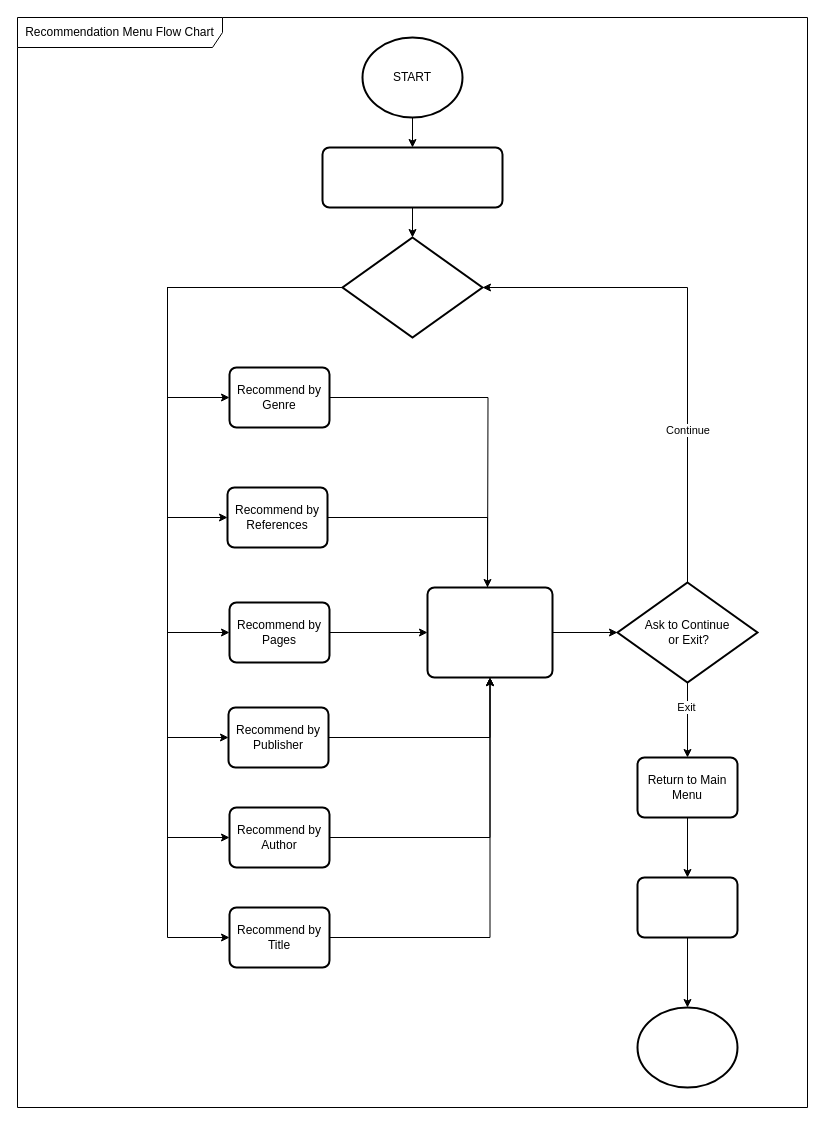
The diagram is 825 pixels wide and 1125 high, and some of its shapes have lost their labels. The centre of each missing label's shape, as x and y in pixels:
Display Main Menu: [687,907]
Display Result: [489,632]
END: [687,1047]
Login to Book Recommendation Menu: [412,177]
Recommendation Option Selection: [412,287]
